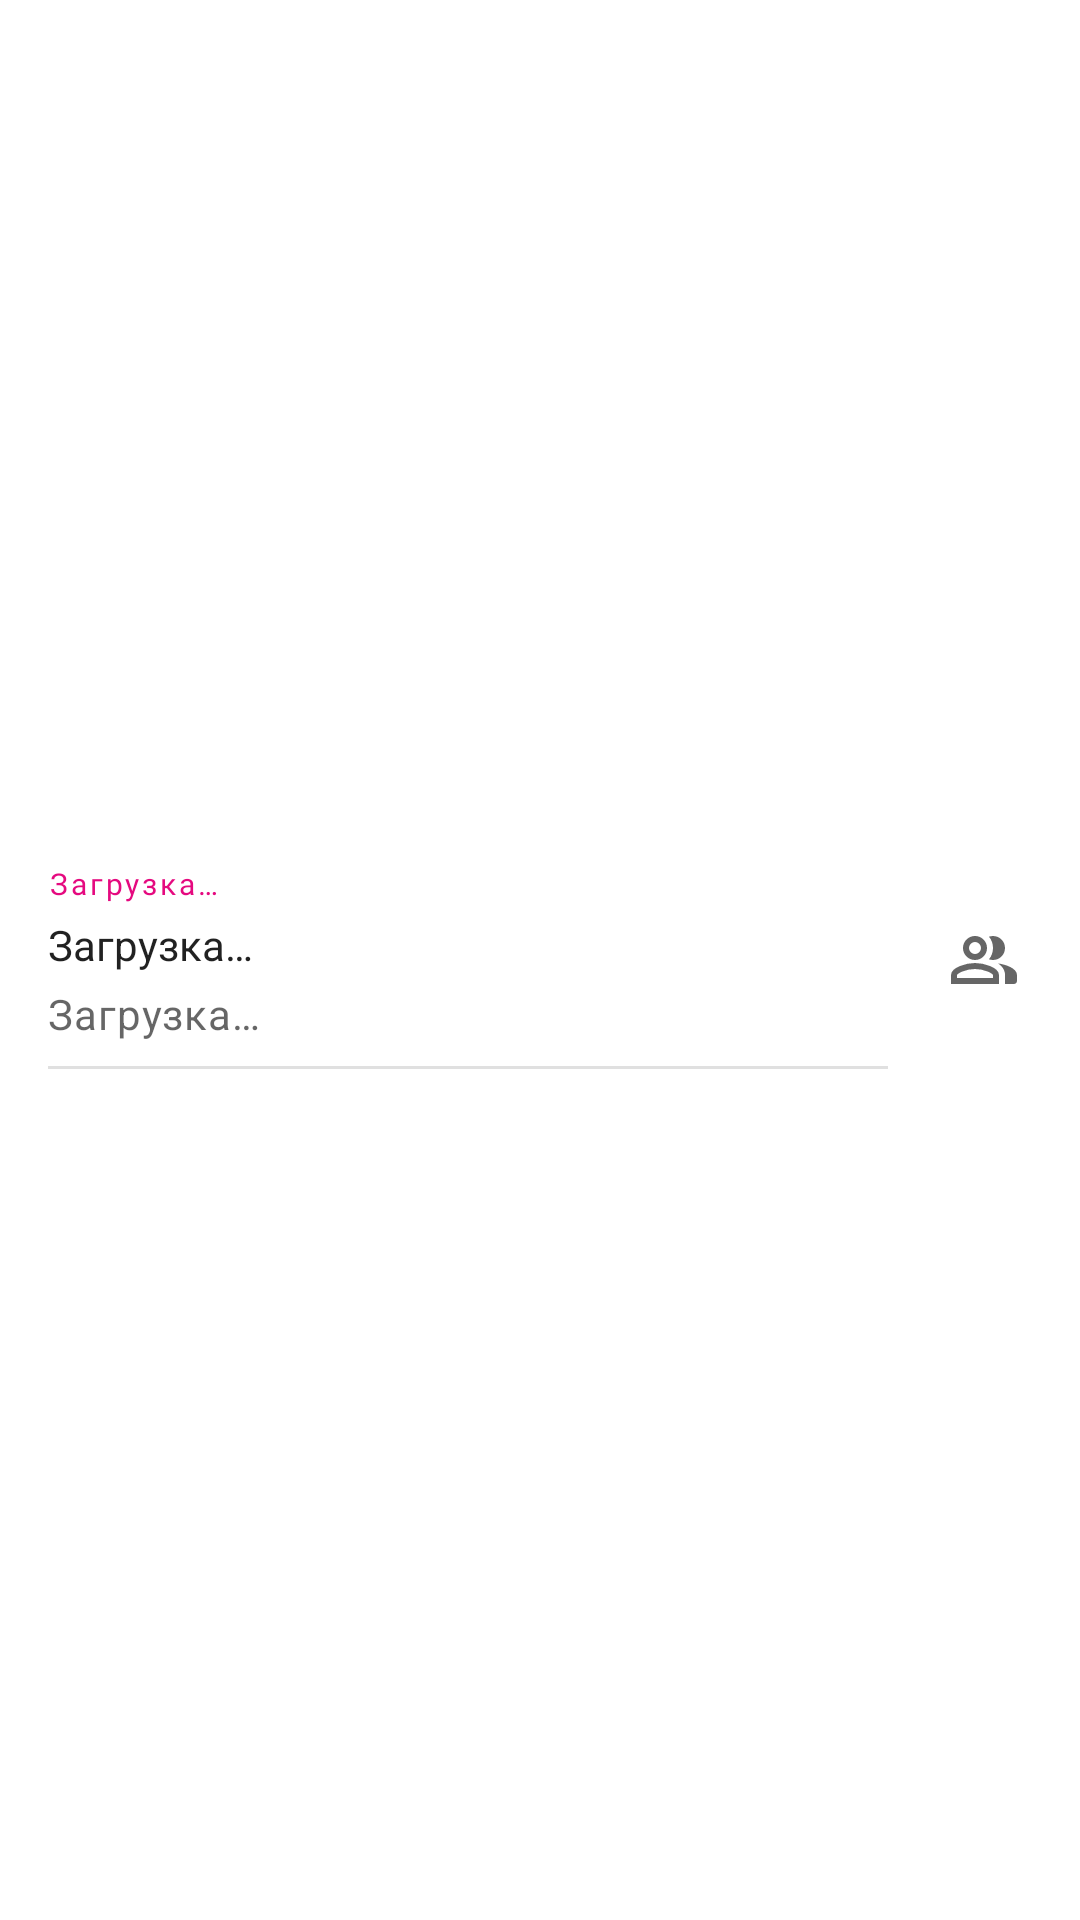

Where icons sit on this 1080 x 1920 app screen, as {"x1": x1, "y1": y1, "x2": x2, "y2": y2}:
people: {"x1": 951, "y1": 936, "x2": 1017, "y2": 984}
